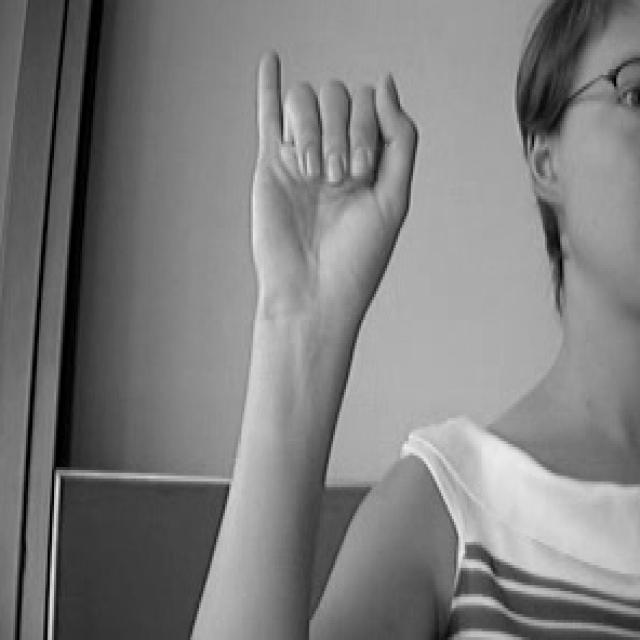I: (244, 31, 435, 315)
